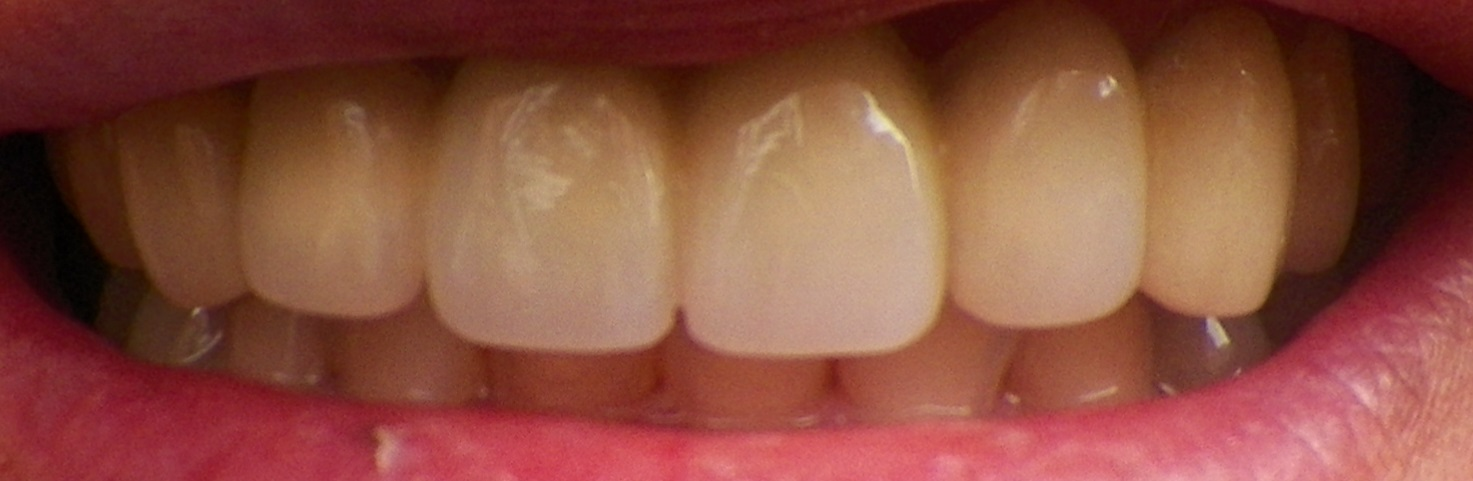boca: (58, 53, 1390, 417)
